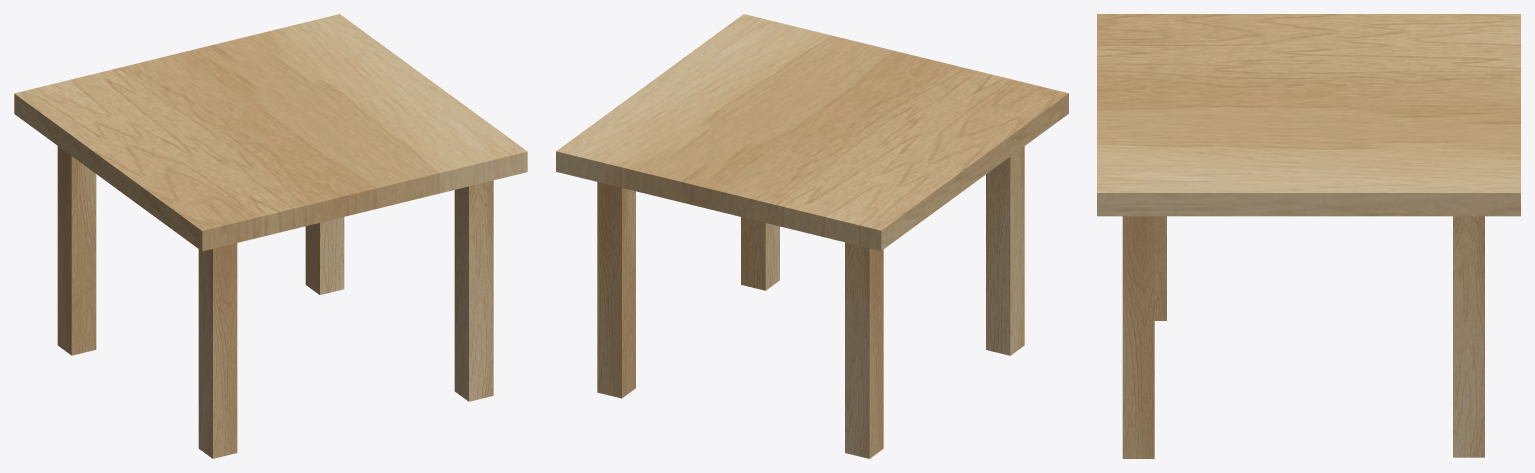
The model's file is Table.fbx.
3 renders of one model, left to right at view 1: azimuth 30°, elevation 25°; view 2: azimuth 150°, elevation 25°; view 3: azimuth 270°, elevation 25°, orthographic. The views are drawn at different scales.
Visible parts, largest first — view 1: polySurface1; view 2: polySurface1; view 3: polySurface1.
Boxes of the visible parts, <box> form: polySurface1: <box>14,14,527,458</box>; polySurface1: <box>556,14,1068,458</box>; polySurface1: <box>1097,14,1520,458</box>.
Size of the model in its own units: 29.12 by 21.11 by 29.12.
